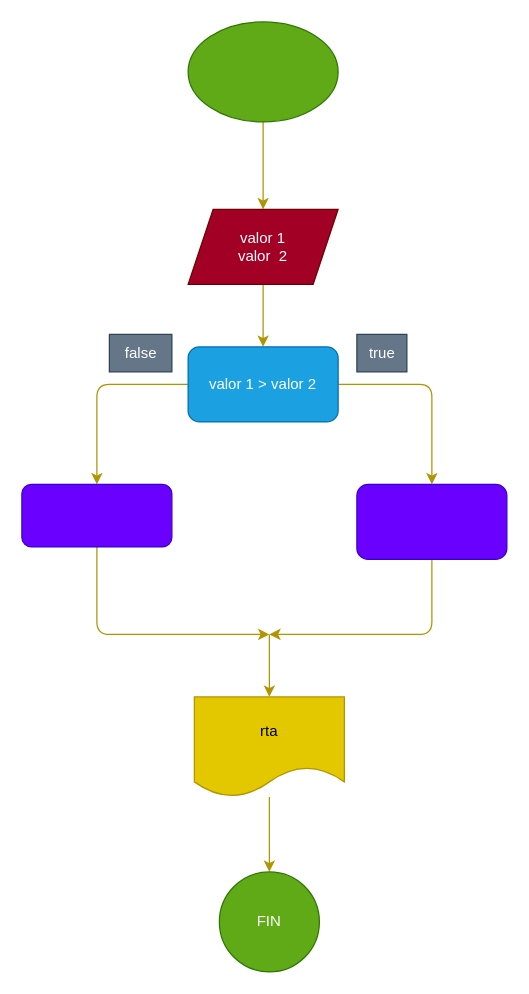
Image size: 529x994. Some labels were removed from this diagram. Each missing label, with the box of its shape:
inicio: (187, 21, 338, 122)
rta = el valor 1 es mayor que el valor 2: (356, 483, 507, 559)
rta = el valor 2 es mayor que el valor 1: (21, 483, 172, 547)
